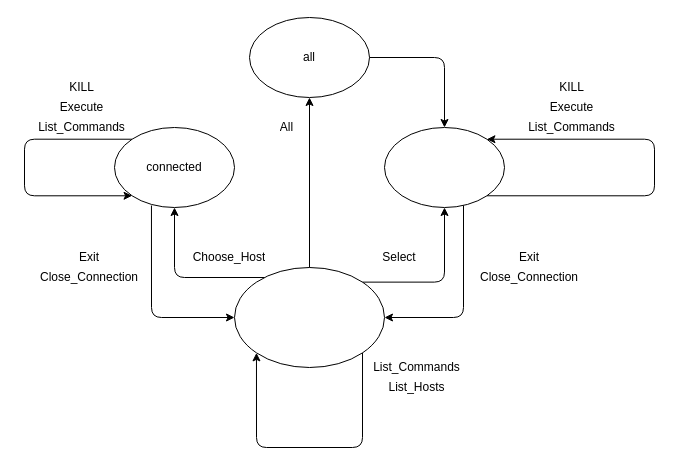
The diagram is 680 pixels wide and 473 high, and some of its shapes have lost their labels. The centre of each missing label's shape, as x and y in pixels:
"Main CLI Loop" goes at [309,317].
"multiple" goes at [444,167].
